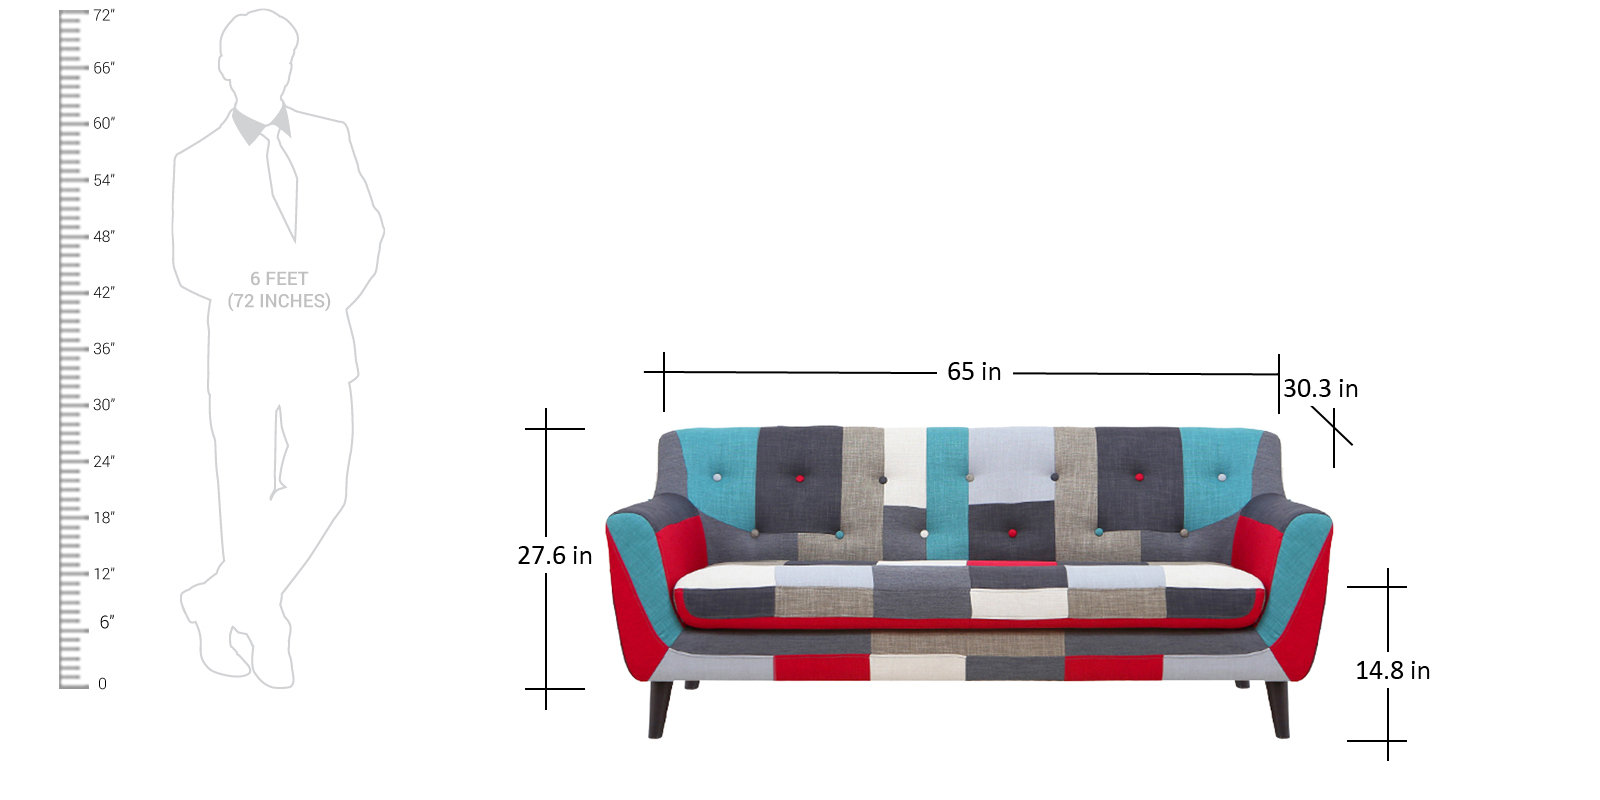Frida Three Seater Sofa in Red Multi Colour by CasaCraft: (600, 419, 1334, 753)
